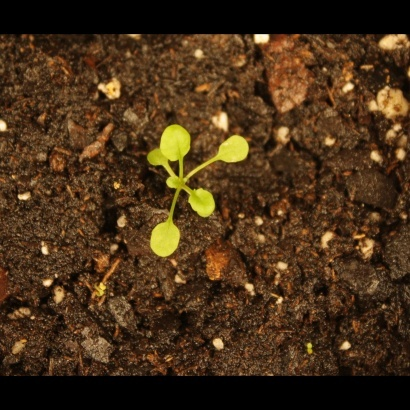leaf: (158, 121, 197, 165), (213, 131, 258, 165), (149, 218, 184, 261), (185, 180, 221, 221), (138, 146, 176, 175), (161, 173, 188, 196)
